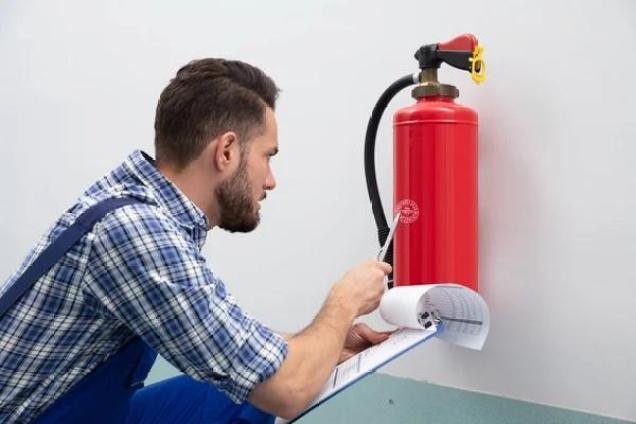APAR: (389, 32, 480, 297)
